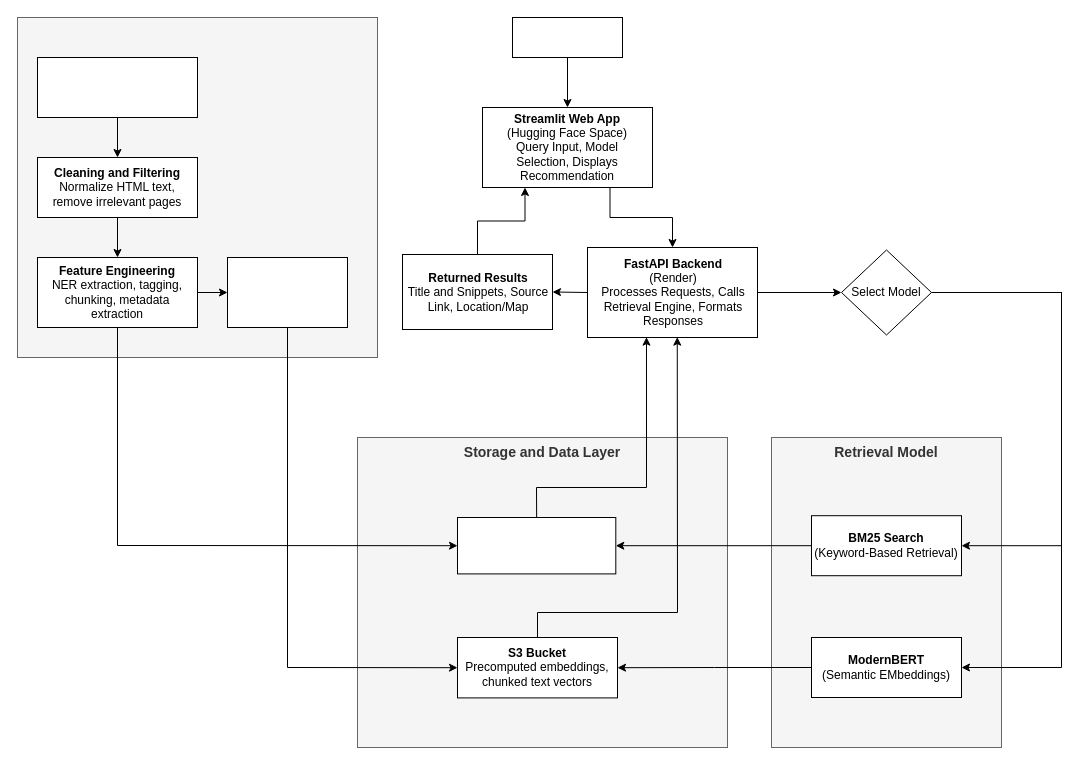
Some shapes in this 1087 by 765 pixel diagram are drawn without their labels. Here are the shapes that lost their labels. From the top down, the box of each, then its label:
(512, 16, 622, 58): User
(36, 56, 198, 118): Scraper (Beautiful Soup + SerpAPI) Collect Travel Blogs
(16, 16, 378, 358): Offline Processing Window
(226, 256, 348, 328): Embedding ModernBERT vector encoding
(456, 516, 616, 574): Postgres Database Cleaned text, metatdata (title, link, author, location)
